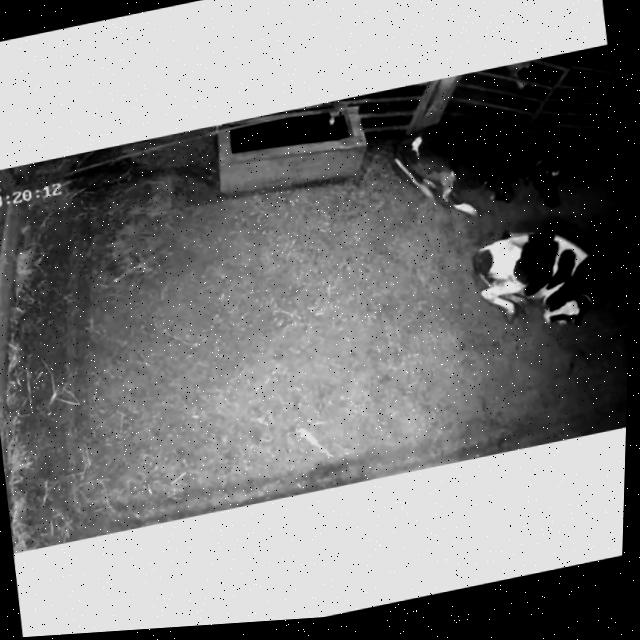lay: (380, 88, 579, 253), (438, 210, 613, 359)
